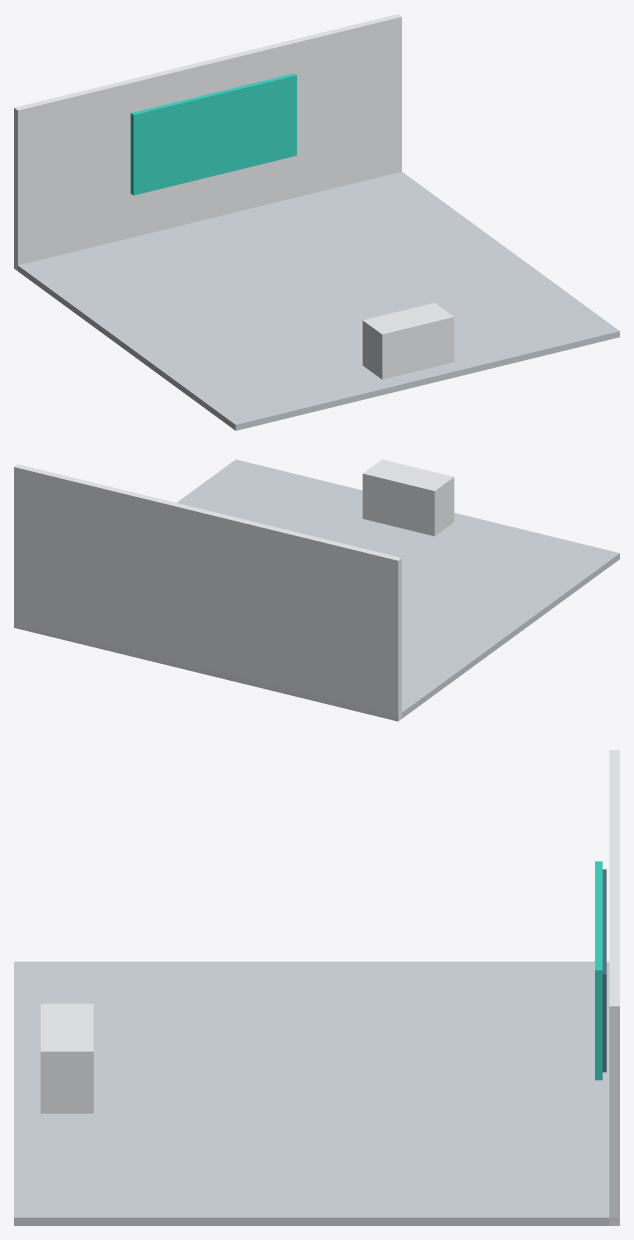
The picture shows the model from 3 angles, top to bottom: view 1: azimuth 30°, elevation 25°; view 2: azimuth 150°, elevation 25°; view 3: azimuth 270°, elevation 25°; orthographic projection. The views are drawn at different scales.
Visible parts, largest first — view 1: Exhibition Booth Concept; view 2: Exhibition Booth Concept; view 3: Exhibition Booth Concept.
Boxes of the visible parts, x1,y1,x2,y2 form: Exhibition Booth Concept: [14, 14, 619, 430]; Exhibition Booth Concept: [14, 459, 619, 721]; Exhibition Booth Concept: [14, 750, 619, 1225].
Bounding box in the file's own units: 8 × 3.2 × 8.
